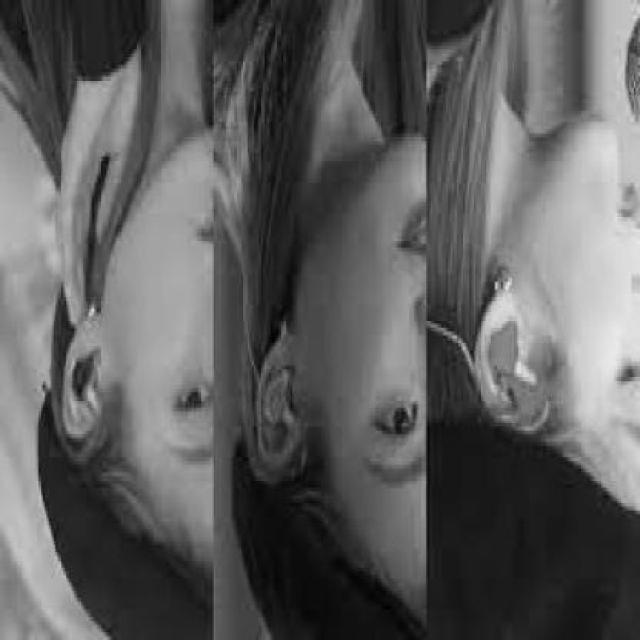earphone: (248, 361, 306, 432), (484, 321, 536, 396), (66, 352, 109, 409)
